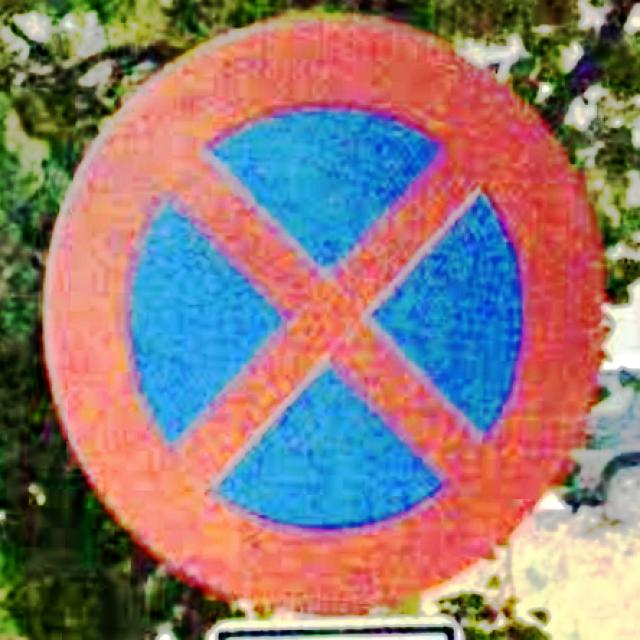nopark: (42, 16, 613, 617)
